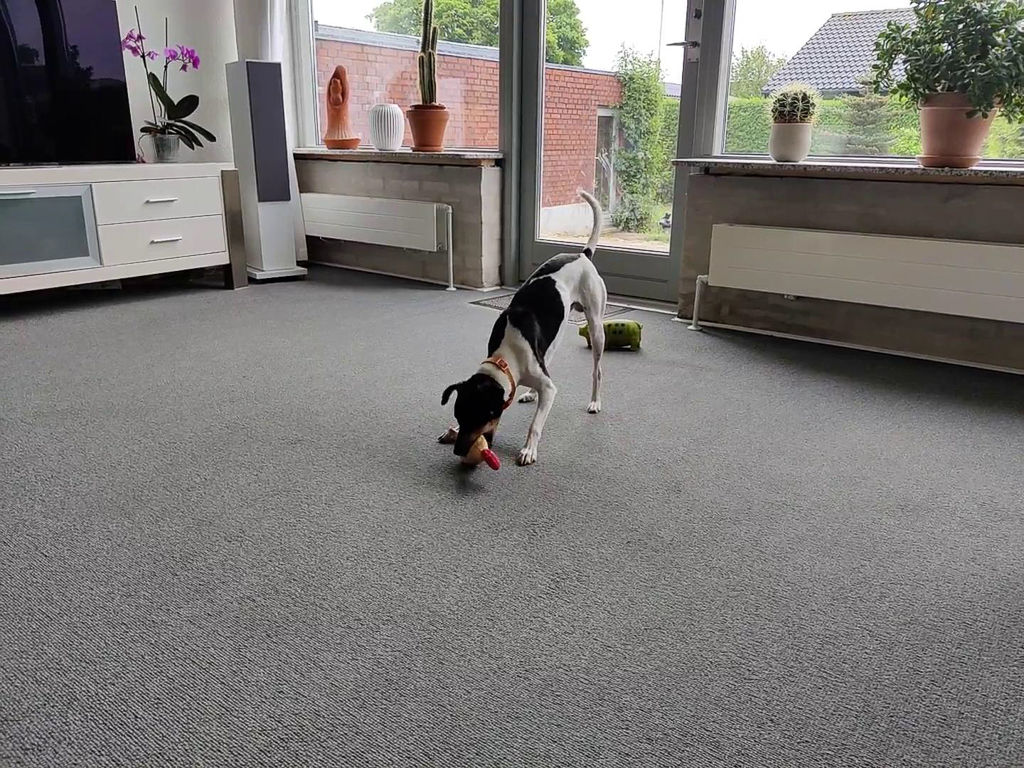Dog: (421, 180, 632, 482)
Humanoid: (307, 62, 368, 142), (654, 208, 678, 235)
